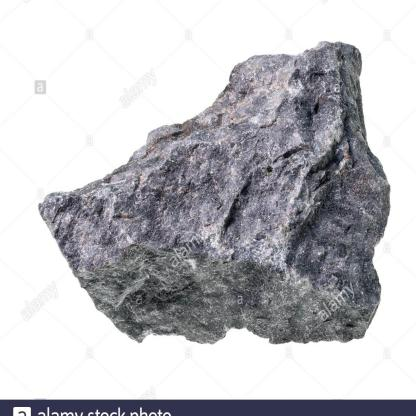Igneous_Basalt: (28, 34, 392, 348)
